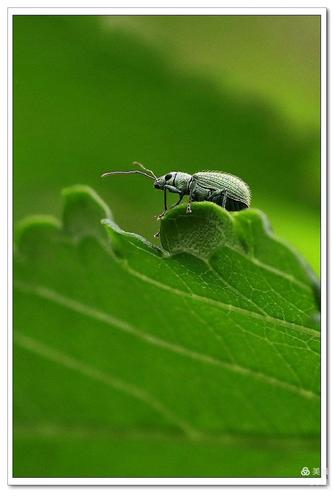Curculionidae: (102, 160, 251, 238)
